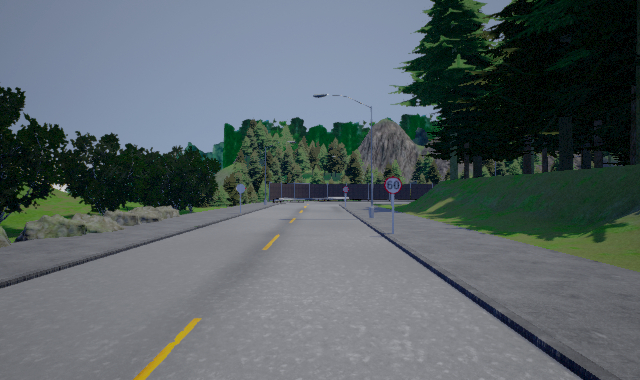traffic_sign: (384, 176, 402, 194), (341, 186, 349, 194)
